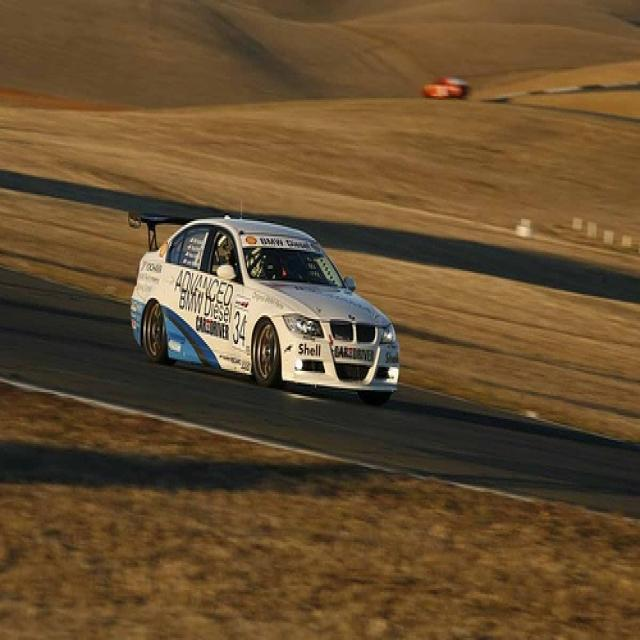car: (128, 208, 401, 404)
